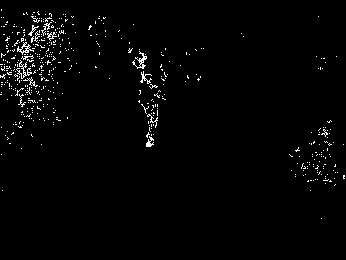person: (139, 74, 166, 149)
